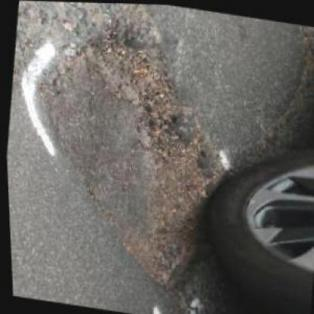Hueco: (45, 29, 242, 299)
